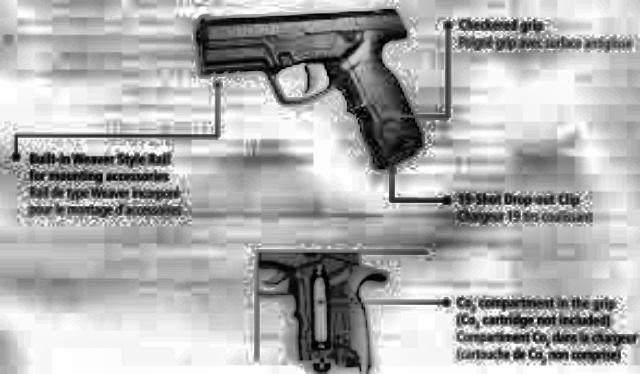pistol: (192, 0, 434, 174)
